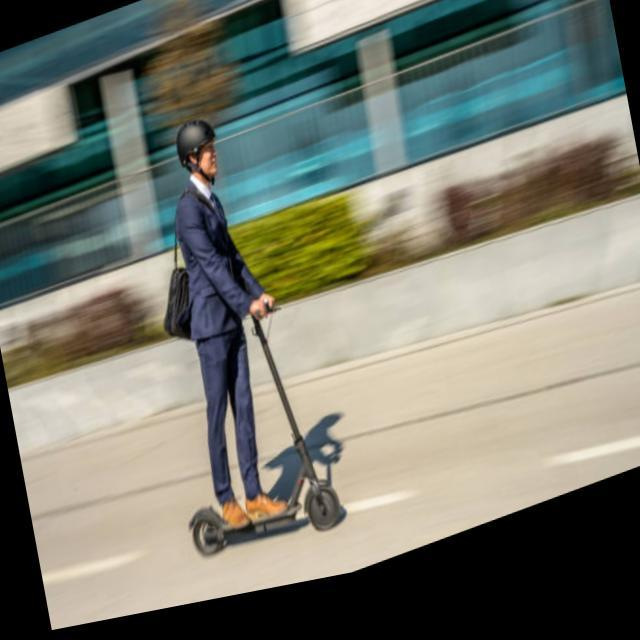Helmet: (166, 107, 222, 193)
